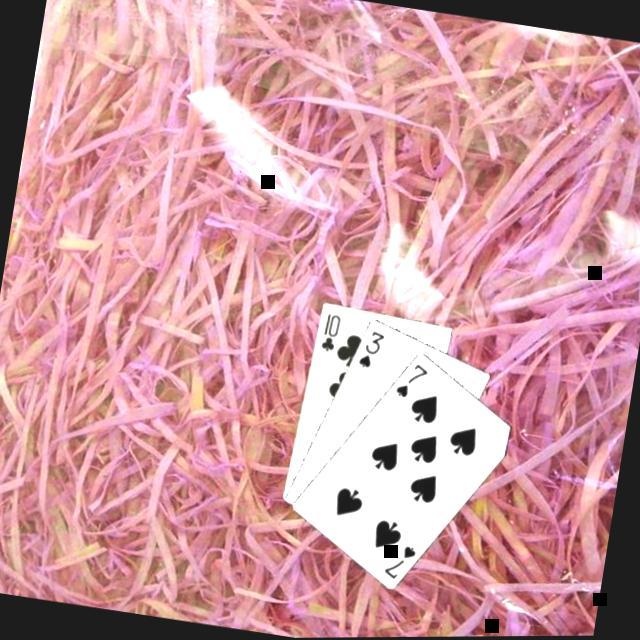10C: (315, 310, 342, 357)
3S: (354, 326, 386, 374)
7S: (390, 358, 431, 404), (378, 540, 419, 586)
